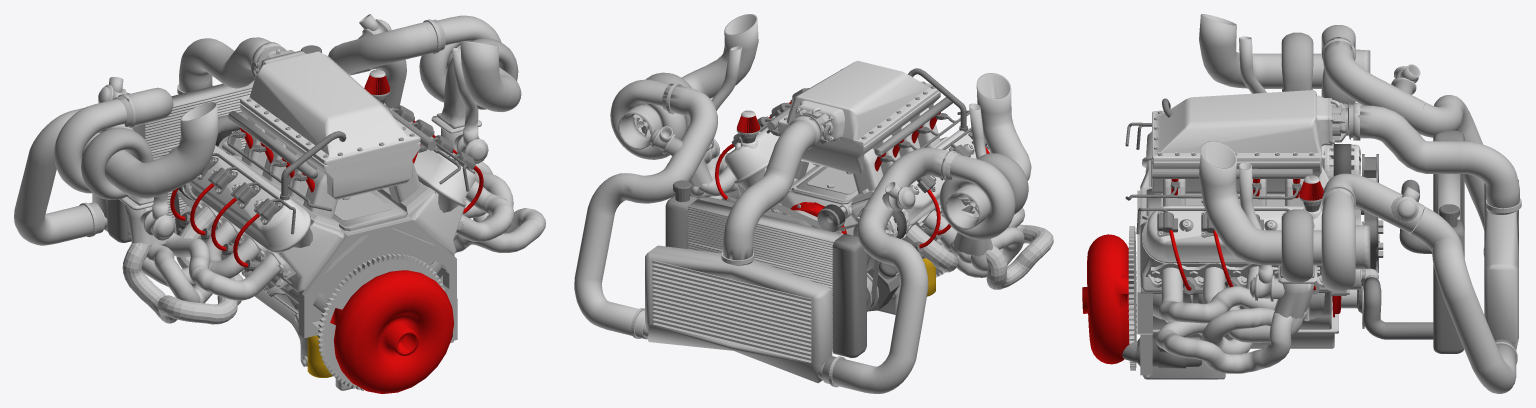
Rendered from V8 Twin Turbo.glb.
The picture shows the model from 3 angles, left to right: view 1: azimuth 30°, elevation 25°; view 2: azimuth 150°, elevation 25°; view 3: azimuth 270°, elevation 25°; orthographic projection. The views are drawn at different scales.
Parts seen in each view (by area): view 1: New_Game_Object (×42); view 2: New_Game_Object (×37); view 3: New_Game_Object (×45).
Boxes of the visible parts, left/top/right/bottom form: New_Game_Object (×42): left=14, top=14, right=545, bottom=393; New_Game_Object (×37): left=574, top=14, right=1053, bottom=393; New_Game_Object (×45): left=1082, top=14, right=1519, bottom=393.
Size of the model in its own units: 275 by 170 by 239.
